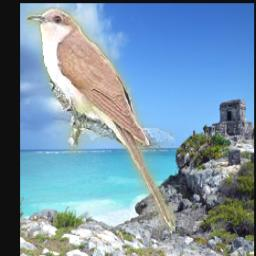Cuckoo: (27, 7, 176, 232)
